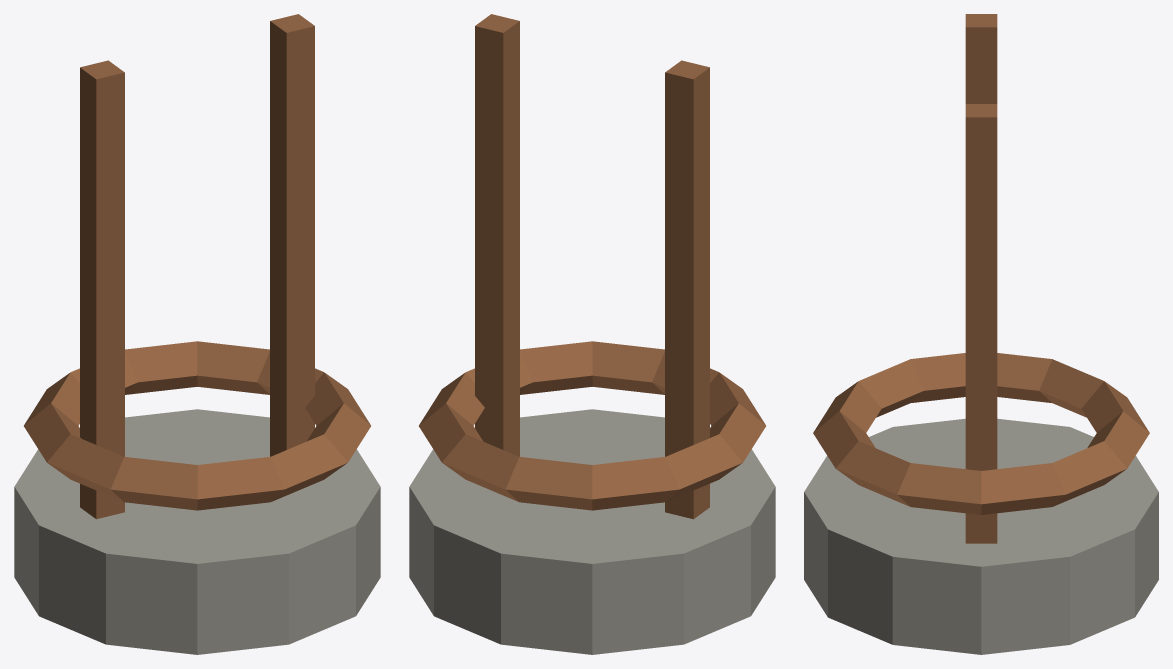
Rendered from board_respiro.glb.
3 views of the same model, side by side, from view 1: azimuth 30°, elevation 25°; view 2: azimuth 150°, elevation 25°; view 3: azimuth 270°, elevation 25° (orthographic). The views are drawn at different scales.
Visible parts, largest first — view 1: board_respiro; view 2: board_respiro; view 3: board_respiro.
Part boxes in pixels (x1,y1,x2,y2): board_respiro: (14, 14, 380, 654); board_respiro: (409, 14, 775, 654); board_respiro: (804, 14, 1158, 654).
Size of the model in its own units: 2.5 by 4 by 2.5.
